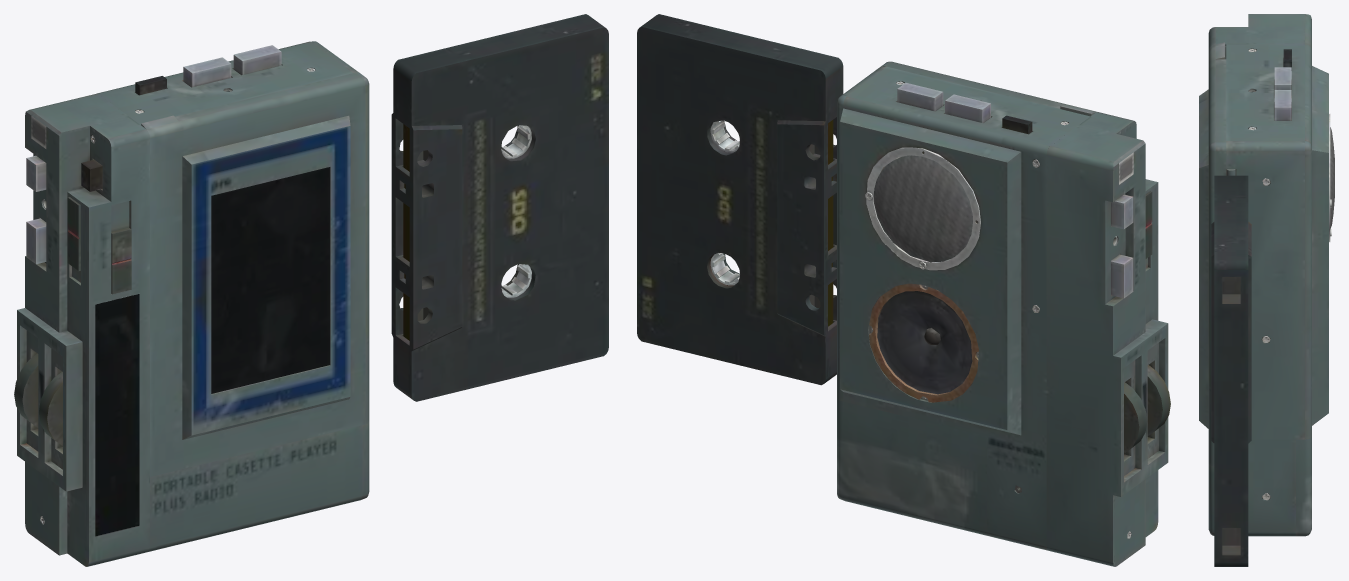
The model's file is portable_cassette_player.glb.
The picture shows the model from 3 angles, left to right: view 1: azimuth 30°, elevation 25°; view 2: azimuth 150°, elevation 25°; view 3: azimuth 270°, elevation 25°; orthographic projection. The views are drawn at different scales.
Visible parts, largest first — view 1: portable_cassette_player_lid; view 2: portable_cassette_player_lid; view 3: portable_cassette_player_lid.
Part boxes in pixels (left/top/right/bottom): portable_cassette_player_lid: left=14, top=14, right=608, bottom=566; portable_cassette_player_lid: left=637, top=14, right=1170, bottom=566; portable_cassette_player_lid: left=1199, top=14, right=1334, bottom=566.
Bounding box in the file's own units: 0.1723 × 0.1303 × 0.0396.
Materials: 2 (2 with a texture image).
